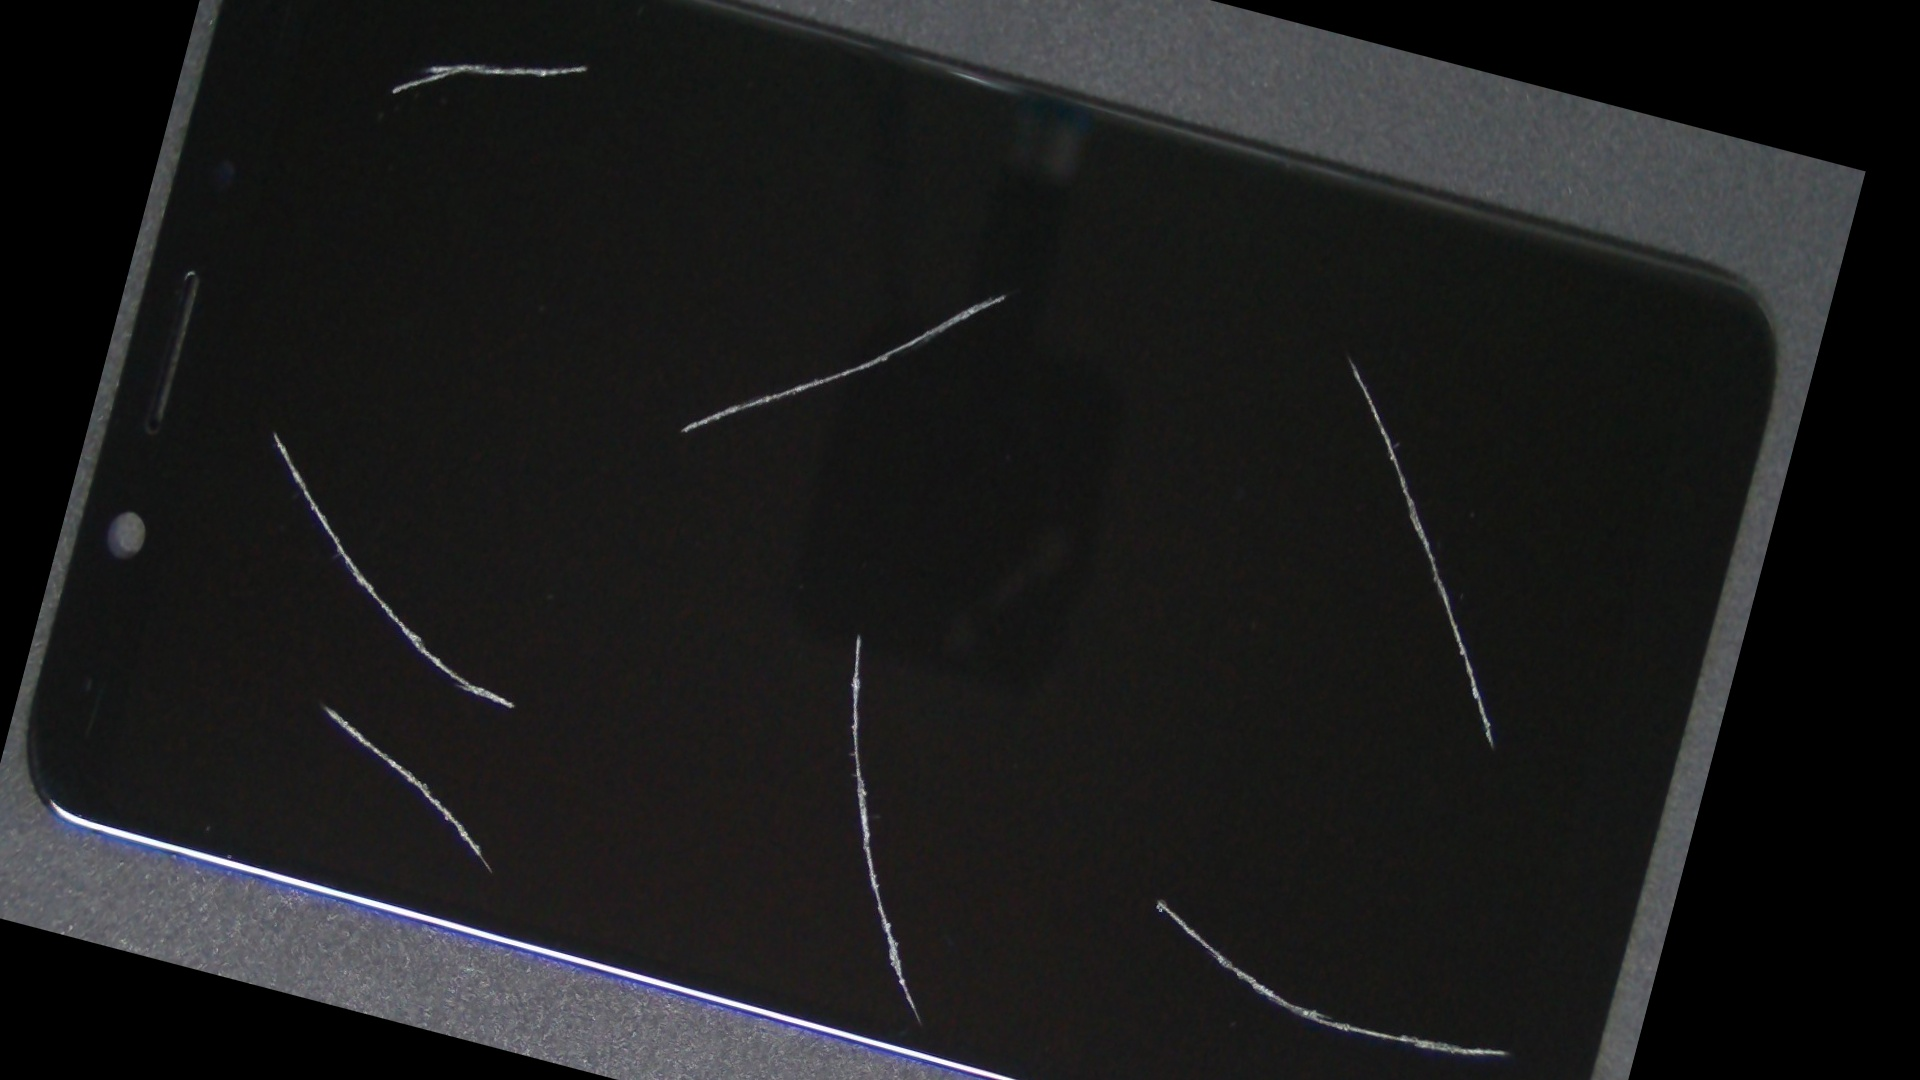oil: (524, 324, 1755, 1080), (382, 189, 1333, 1077), (729, 54, 1826, 621), (550, 22, 1458, 564), (105, 225, 582, 1021), (103, 90, 444, 770), (368, 0, 798, 220)
